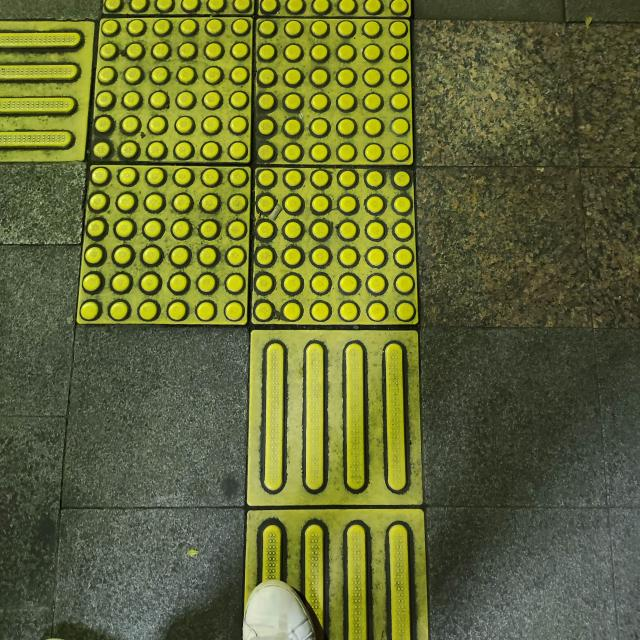kiri: (0, 19, 503, 499)
